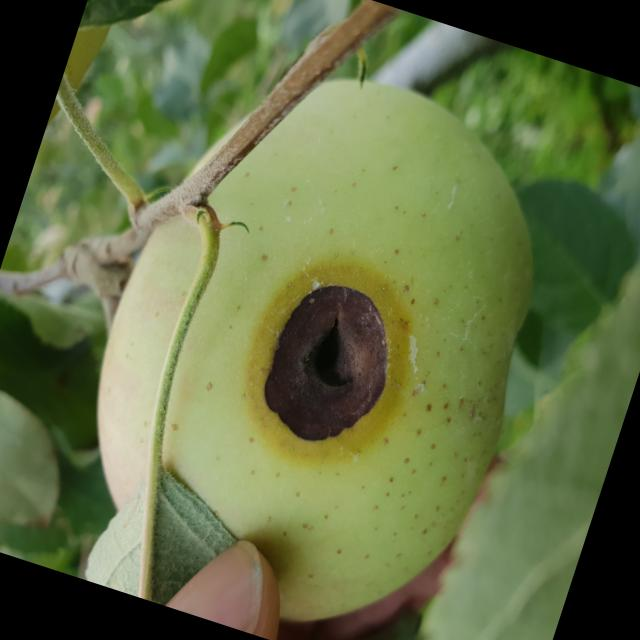rotten: (25, 14, 602, 640)
